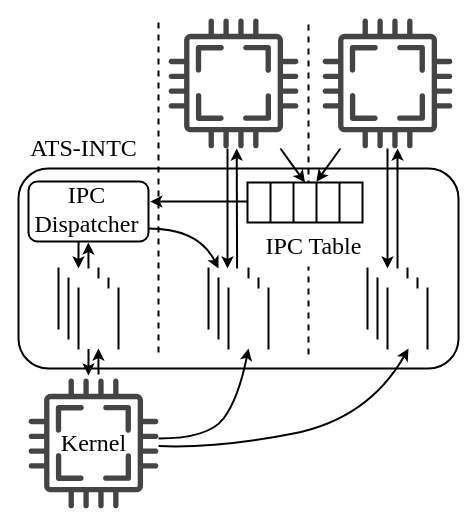
Some shapes in this 476 by 525 pixel diagram are drawn without their labels. Each missing label, with the centre of its shape:
"Process1" belongs at (233,83).
"Process2" belongs at (387,83).
